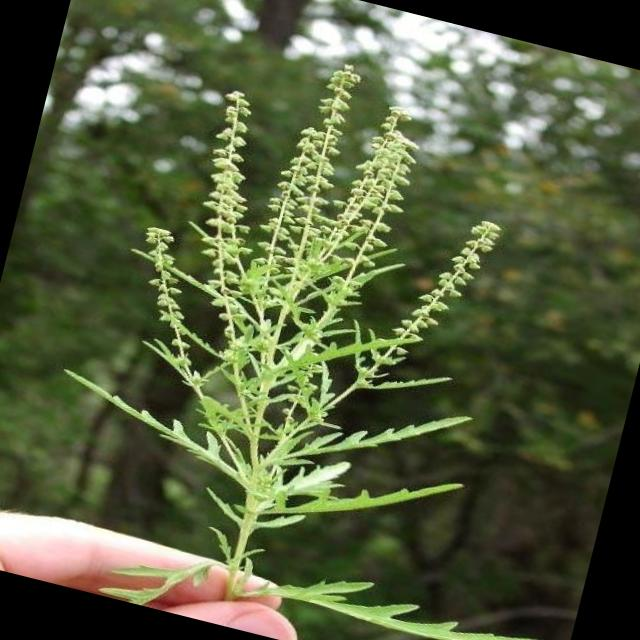ambrosia: (58, 16, 554, 604)
